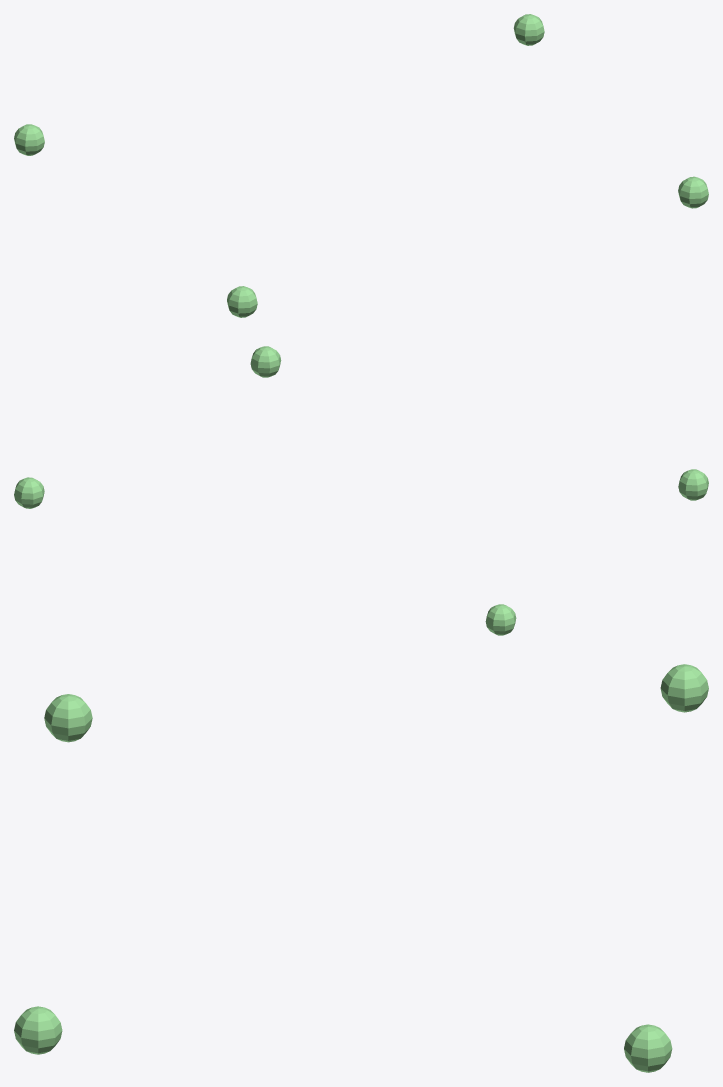
The model's file is Hat_Spheres.fbx.
The picture shows the model from 3 angles, top to bottom: view 1: azimuth 30°, elevation 25°; view 2: azimuth 150°, elevation 25°; view 3: azimuth 270°, elevation 25°; orthographic projection. The views are drawn at different scales.
Parts seen in each view (by area): view 1: Hat_Spheres; view 2: Hat_Spheres; view 3: Hat_Spheres.
Part boxes in pixels (x1,y1,x2,y2): Hat_Spheres: [14, 14, 708, 317]; Hat_Spheres: [14, 346, 708, 635]; Hat_Spheres: [14, 664, 708, 1072].
Bounding box in the file's own units: 3717 × 304 × 2867.
